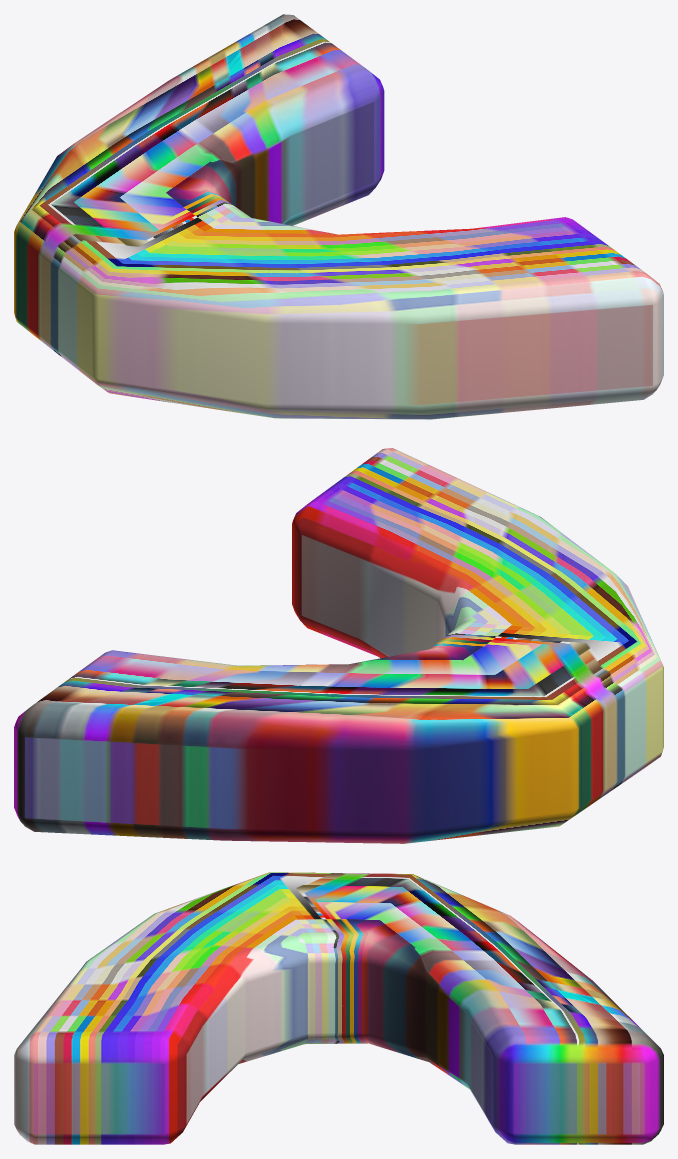
File: TightWayCornerDouble.fbx
The picture shows the model from 3 angles, top to bottom: view 1: azimuth 30°, elevation 25°; view 2: azimuth 150°, elevation 25°; view 3: azimuth 270°, elevation 25°; orthographic projection. The views are drawn at different scales.
Parts seen in each view (by area): view 1: Circle.025; view 2: Circle.025; view 3: Circle.025.
Part boxes in pixels (x1,y1,x2,y2): Circle.025: (14,14,663,419); Circle.025: (14,448,663,843); Circle.025: (14,872,663,1144).
Size of the model in its own units: 2.49 by 0.702 by 3.77.
